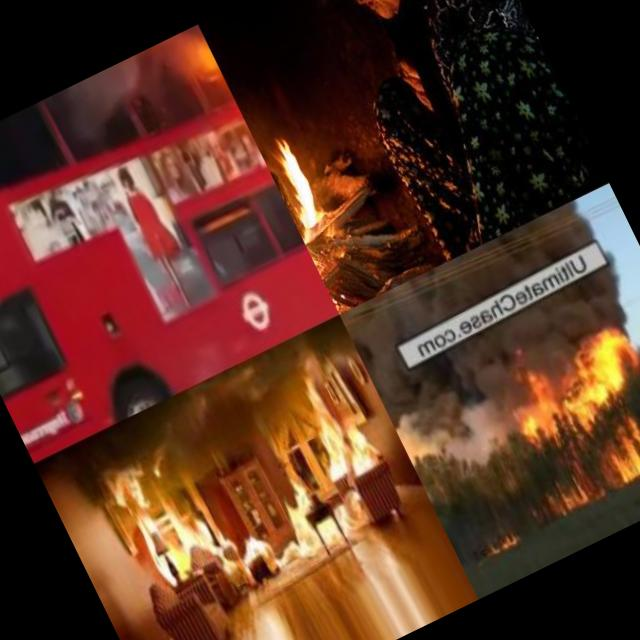fire: (250, 112, 360, 278), (106, 462, 194, 590), (284, 367, 364, 486), (550, 315, 640, 411), (272, 473, 350, 559), (500, 363, 574, 449), (181, 500, 246, 582), (330, 408, 390, 488), (540, 462, 605, 520), (593, 409, 640, 487), (230, 518, 276, 570), (476, 522, 522, 562)
smoke: (0, 23, 219, 215), (388, 359, 534, 485)
